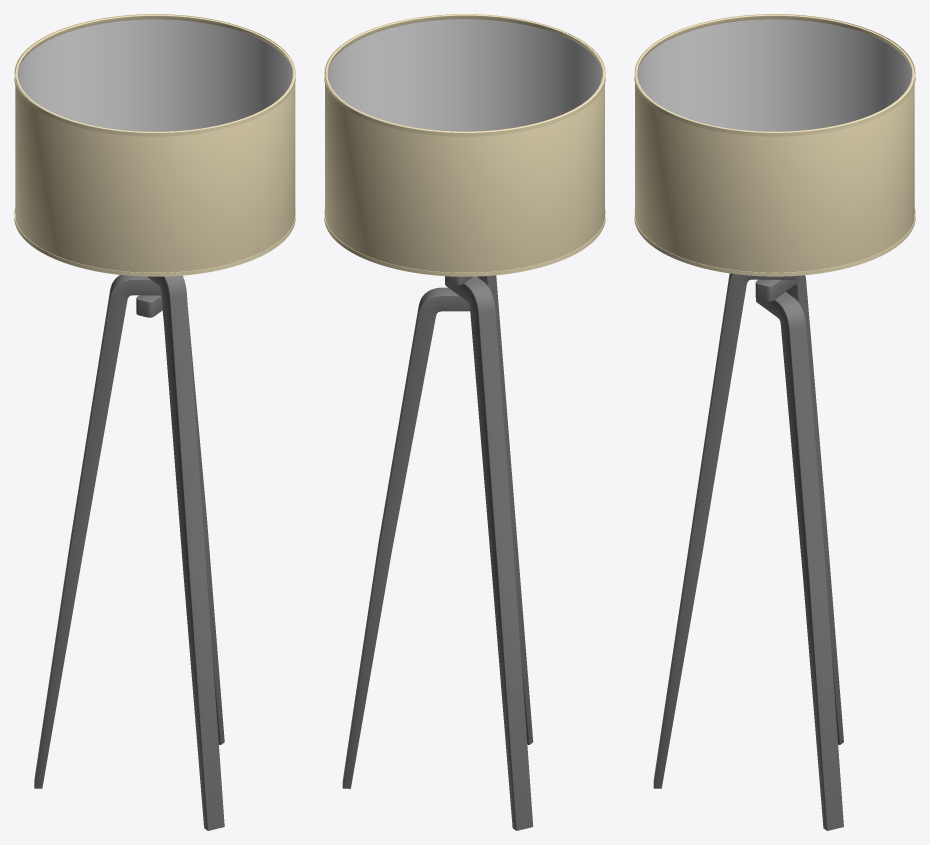
Rendered from torchere_FBX.FBX.
3 renders of one model, left to right at view 1: azimuth 30°, elevation 25°; view 2: azimuth 150°, elevation 25°; view 3: azimuth 270°, elevation 25°, orthographic.
Parts seen in each view (by area): view 1: Cylinder008, Tube003, Line008, Line014, Line015, Tube004, Tube005; view 2: Cylinder008, Tube003, Line014, Line015, Line008, Tube004, Tube005; view 3: Cylinder008, Tube003, Line015, Line008, Line014, Tube004, Tube005.
Part boxes in pixels (<box>): Cylinder008: <box>15,14,295,272</box>; Tube003: <box>17,19,292,131</box>; Line008: <box>147,275,224,830</box>; Line014: <box>34,275,161,788</box>; Line015: <box>136,295,224,744</box>; Tube004: <box>14,14,295,136</box>; Tube005: <box>14,207,295,276</box>; Cylinder008: <box>325,14,604,272</box>; Tube003: <box>327,19,602,131</box>; Line014: <box>445,276,533,830</box>; Line015: <box>342,287,470,788</box>; Line008: <box>445,275,533,744</box>; Tube004: <box>324,14,605,136</box>; Tube005: <box>324,208,605,276</box>; Cylinder008: <box>635,14,914,272</box>; Tube003: <box>637,19,911,131</box>; Line015: <box>756,292,843,830</box>; Line008: <box>653,273,800,788</box>; Line014: <box>755,275,843,744</box>; Tube004: <box>634,14,915,136</box>; Tube005: <box>634,207,915,276</box>.
Size of the model in its own units: 529 by 1475 by 529.
